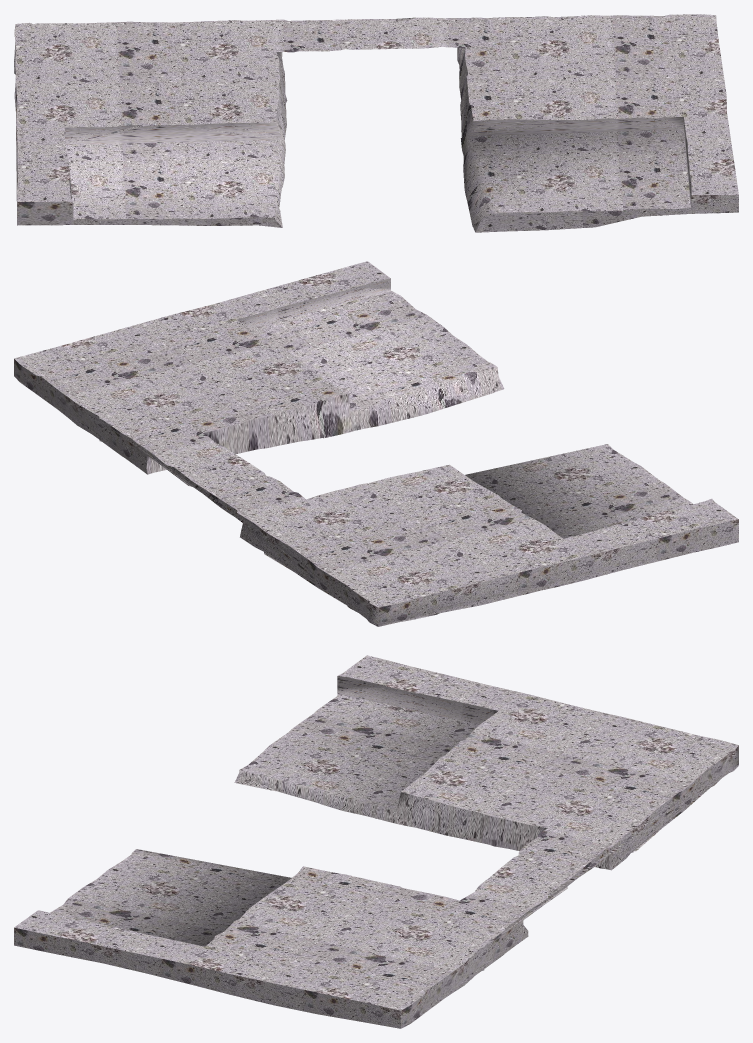
The picture shows the model from 3 angles, top to bottom: view 1: azimuth 30°, elevation 25°; view 2: azimuth 150°, elevation 25°; view 3: azimuth 270°, elevation 25°; orthographic projection. The views are drawn at different scales.
Visible parts, largest first — view 1: N; view 2: N; view 3: N.
Part boxes in pixels (x1=…): N: x1=14, y1=14, x2=738, y2=232; N: x1=14, y1=261, x2=738, y2=626; N: x1=14, y1=655, x2=738, y2=1028.
Bounding box in the file's own units: 1718 × 82.28 × 1480.
1 material, 1 textured.
